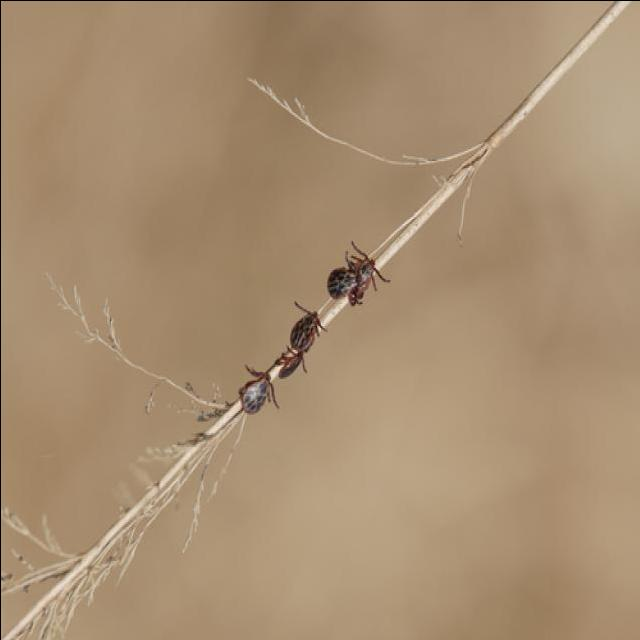Dermacentor Reticulatus-M: (287, 300, 323, 366), (325, 252, 366, 305), (237, 363, 278, 414)
